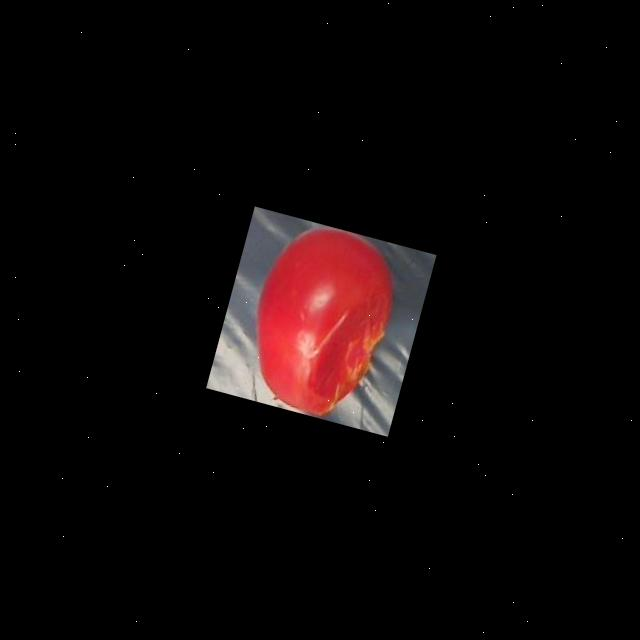tomato: (232, 212, 412, 429)
